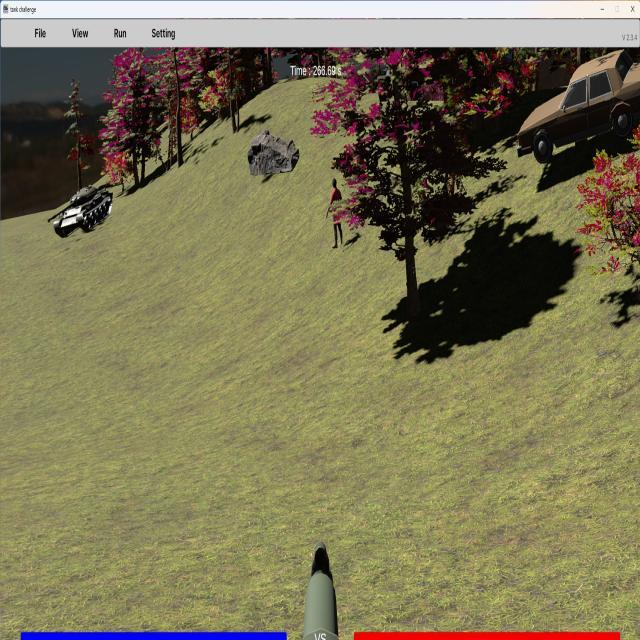Human: (327, 177, 344, 250)
Tank: (48, 181, 113, 238)
car: (517, 51, 640, 164)
